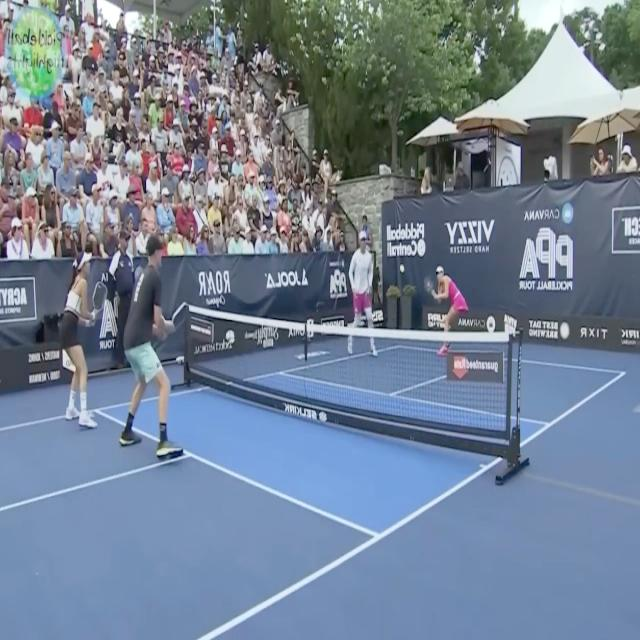Pickleball: (400, 262, 406, 274)
